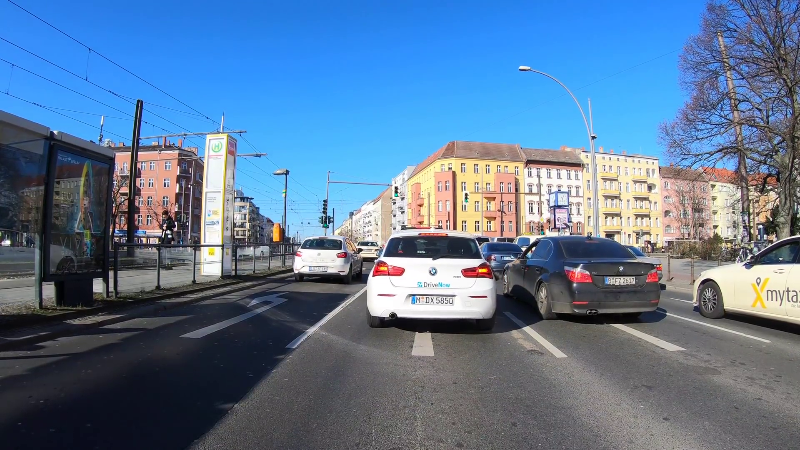Plate: (410, 294, 456, 304), (602, 274, 637, 286), (307, 265, 328, 271), (501, 256, 512, 261), (362, 248, 372, 252)
